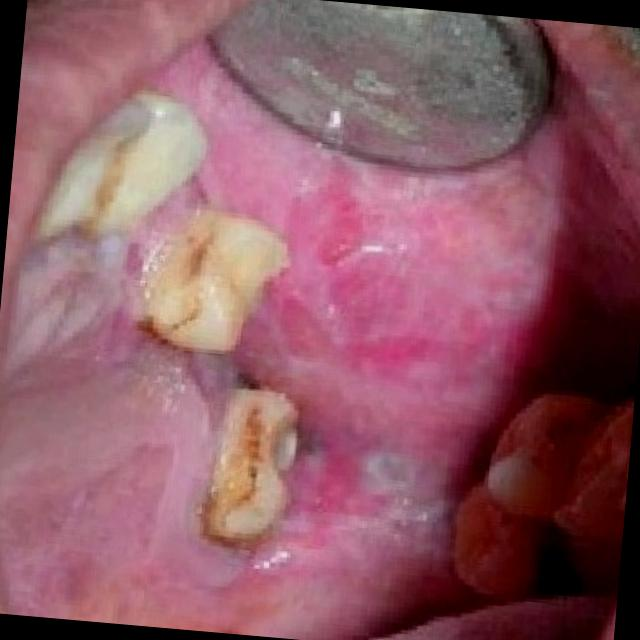Cancer: (0, 115, 578, 617)
